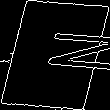N_W: (3, 32, 107, 78)
